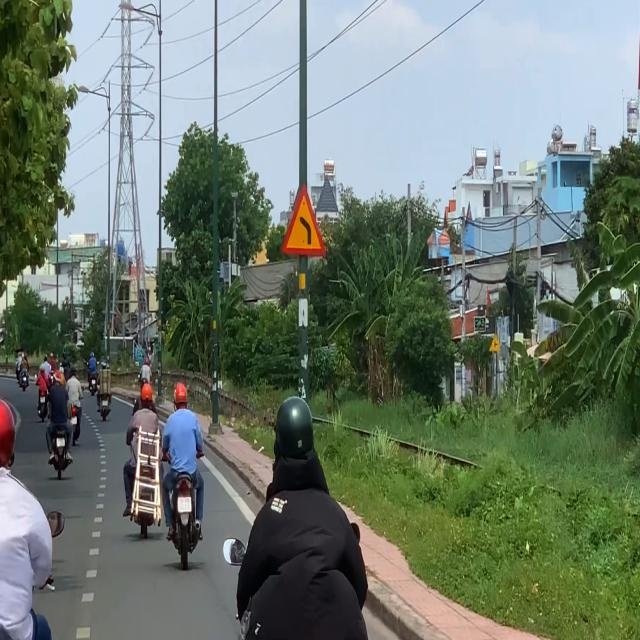Nguy hiem: (282, 183, 326, 256)
